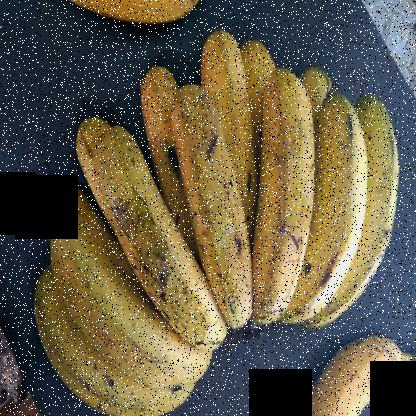ripe: (41, 203, 222, 385), (90, 125, 221, 359), (165, 77, 256, 340), (322, 90, 404, 314), (285, 94, 366, 317), (255, 54, 314, 348), (276, 345, 407, 415)
